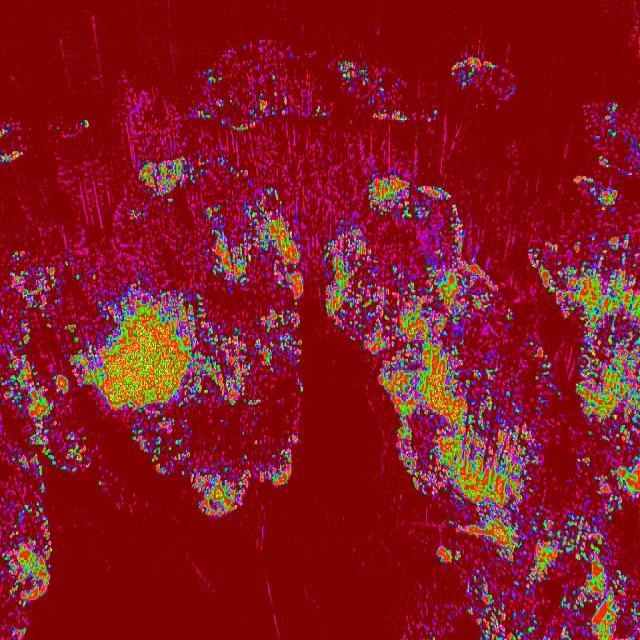fire: (323, 172, 505, 362), (70, 284, 306, 430), (432, 512, 640, 640), (136, 152, 308, 300), (378, 362, 542, 513), (0, 227, 56, 640), (189, 38, 327, 127), (578, 322, 640, 510), (530, 236, 640, 322), (128, 432, 302, 481), (338, 57, 414, 127), (446, 54, 522, 106), (590, 98, 640, 174), (54, 371, 86, 477), (571, 172, 628, 217), (188, 480, 249, 520), (526, 341, 564, 403), (0, 120, 22, 170)
